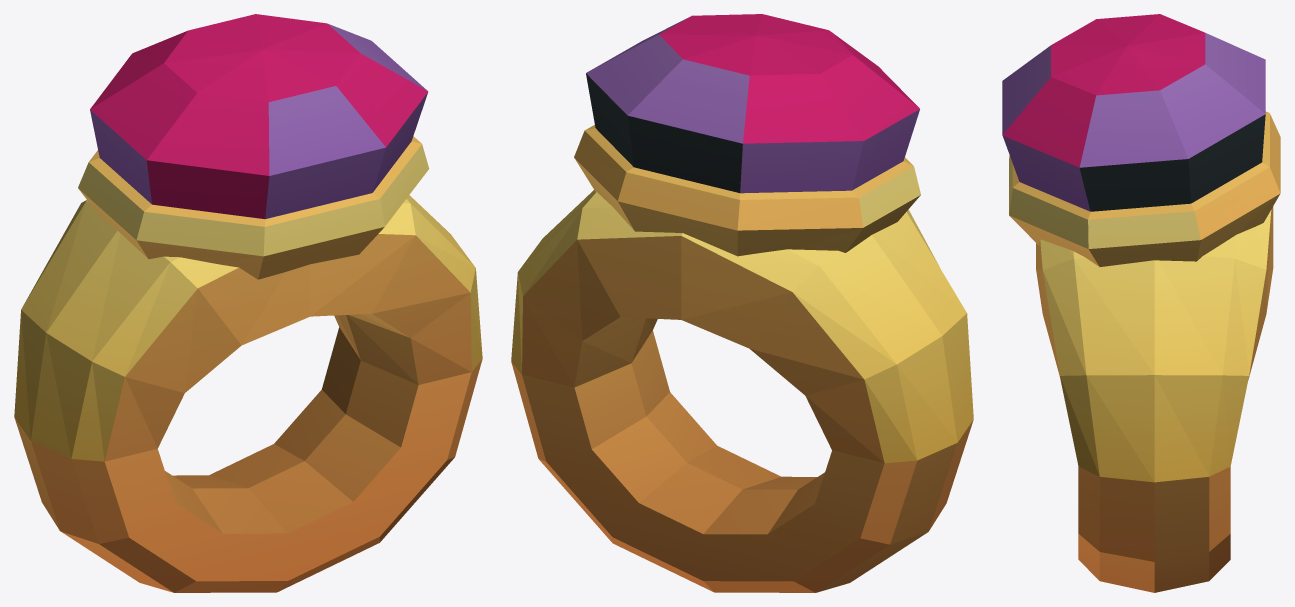
File: ring_gold_amethyst.glb
The picture shows the model from 3 angles, left to right: view 1: azimuth 30°, elevation 25°; view 2: azimuth 150°, elevation 25°; view 3: azimuth 270°, elevation 25°; orthographic projection. The views are drawn at different scales.
Parts seen in each view (by area): view 1: model; view 2: model; view 3: model.
Boxes of the visible parts, left/top/right/bottom form: model: left=14, top=14, right=482, bottom=592; model: left=511, top=14, right=973, bottom=592; model: left=1002, top=14, right=1280, bottom=592.
Bounding box in the file's own units: 0.52 × 0.62 × 0.3.
Materials: 1 (1 with a texture image).
